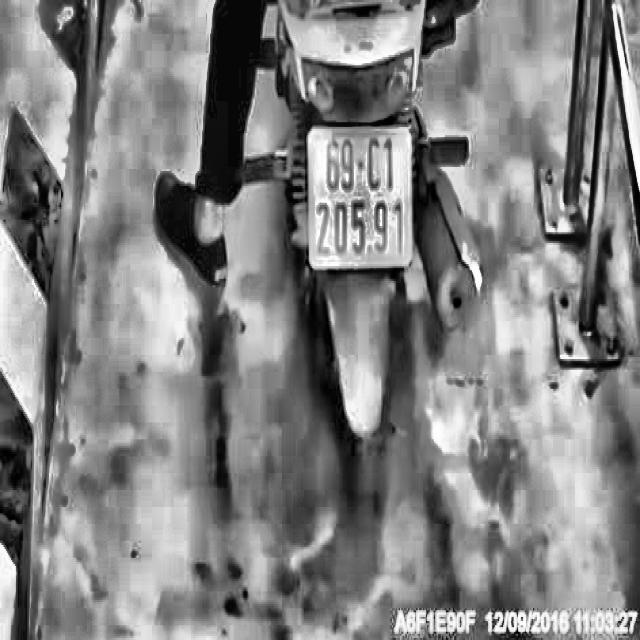plate: (302, 118, 418, 278)
